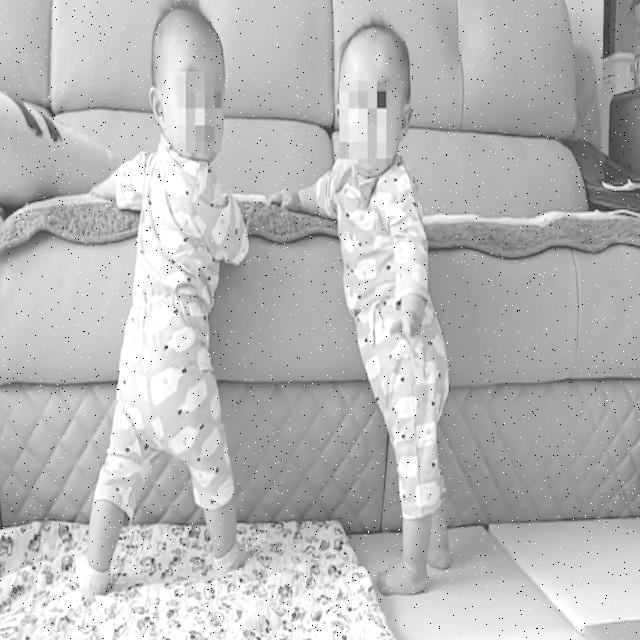child: (265, 11, 452, 596), (73, 0, 239, 614)
